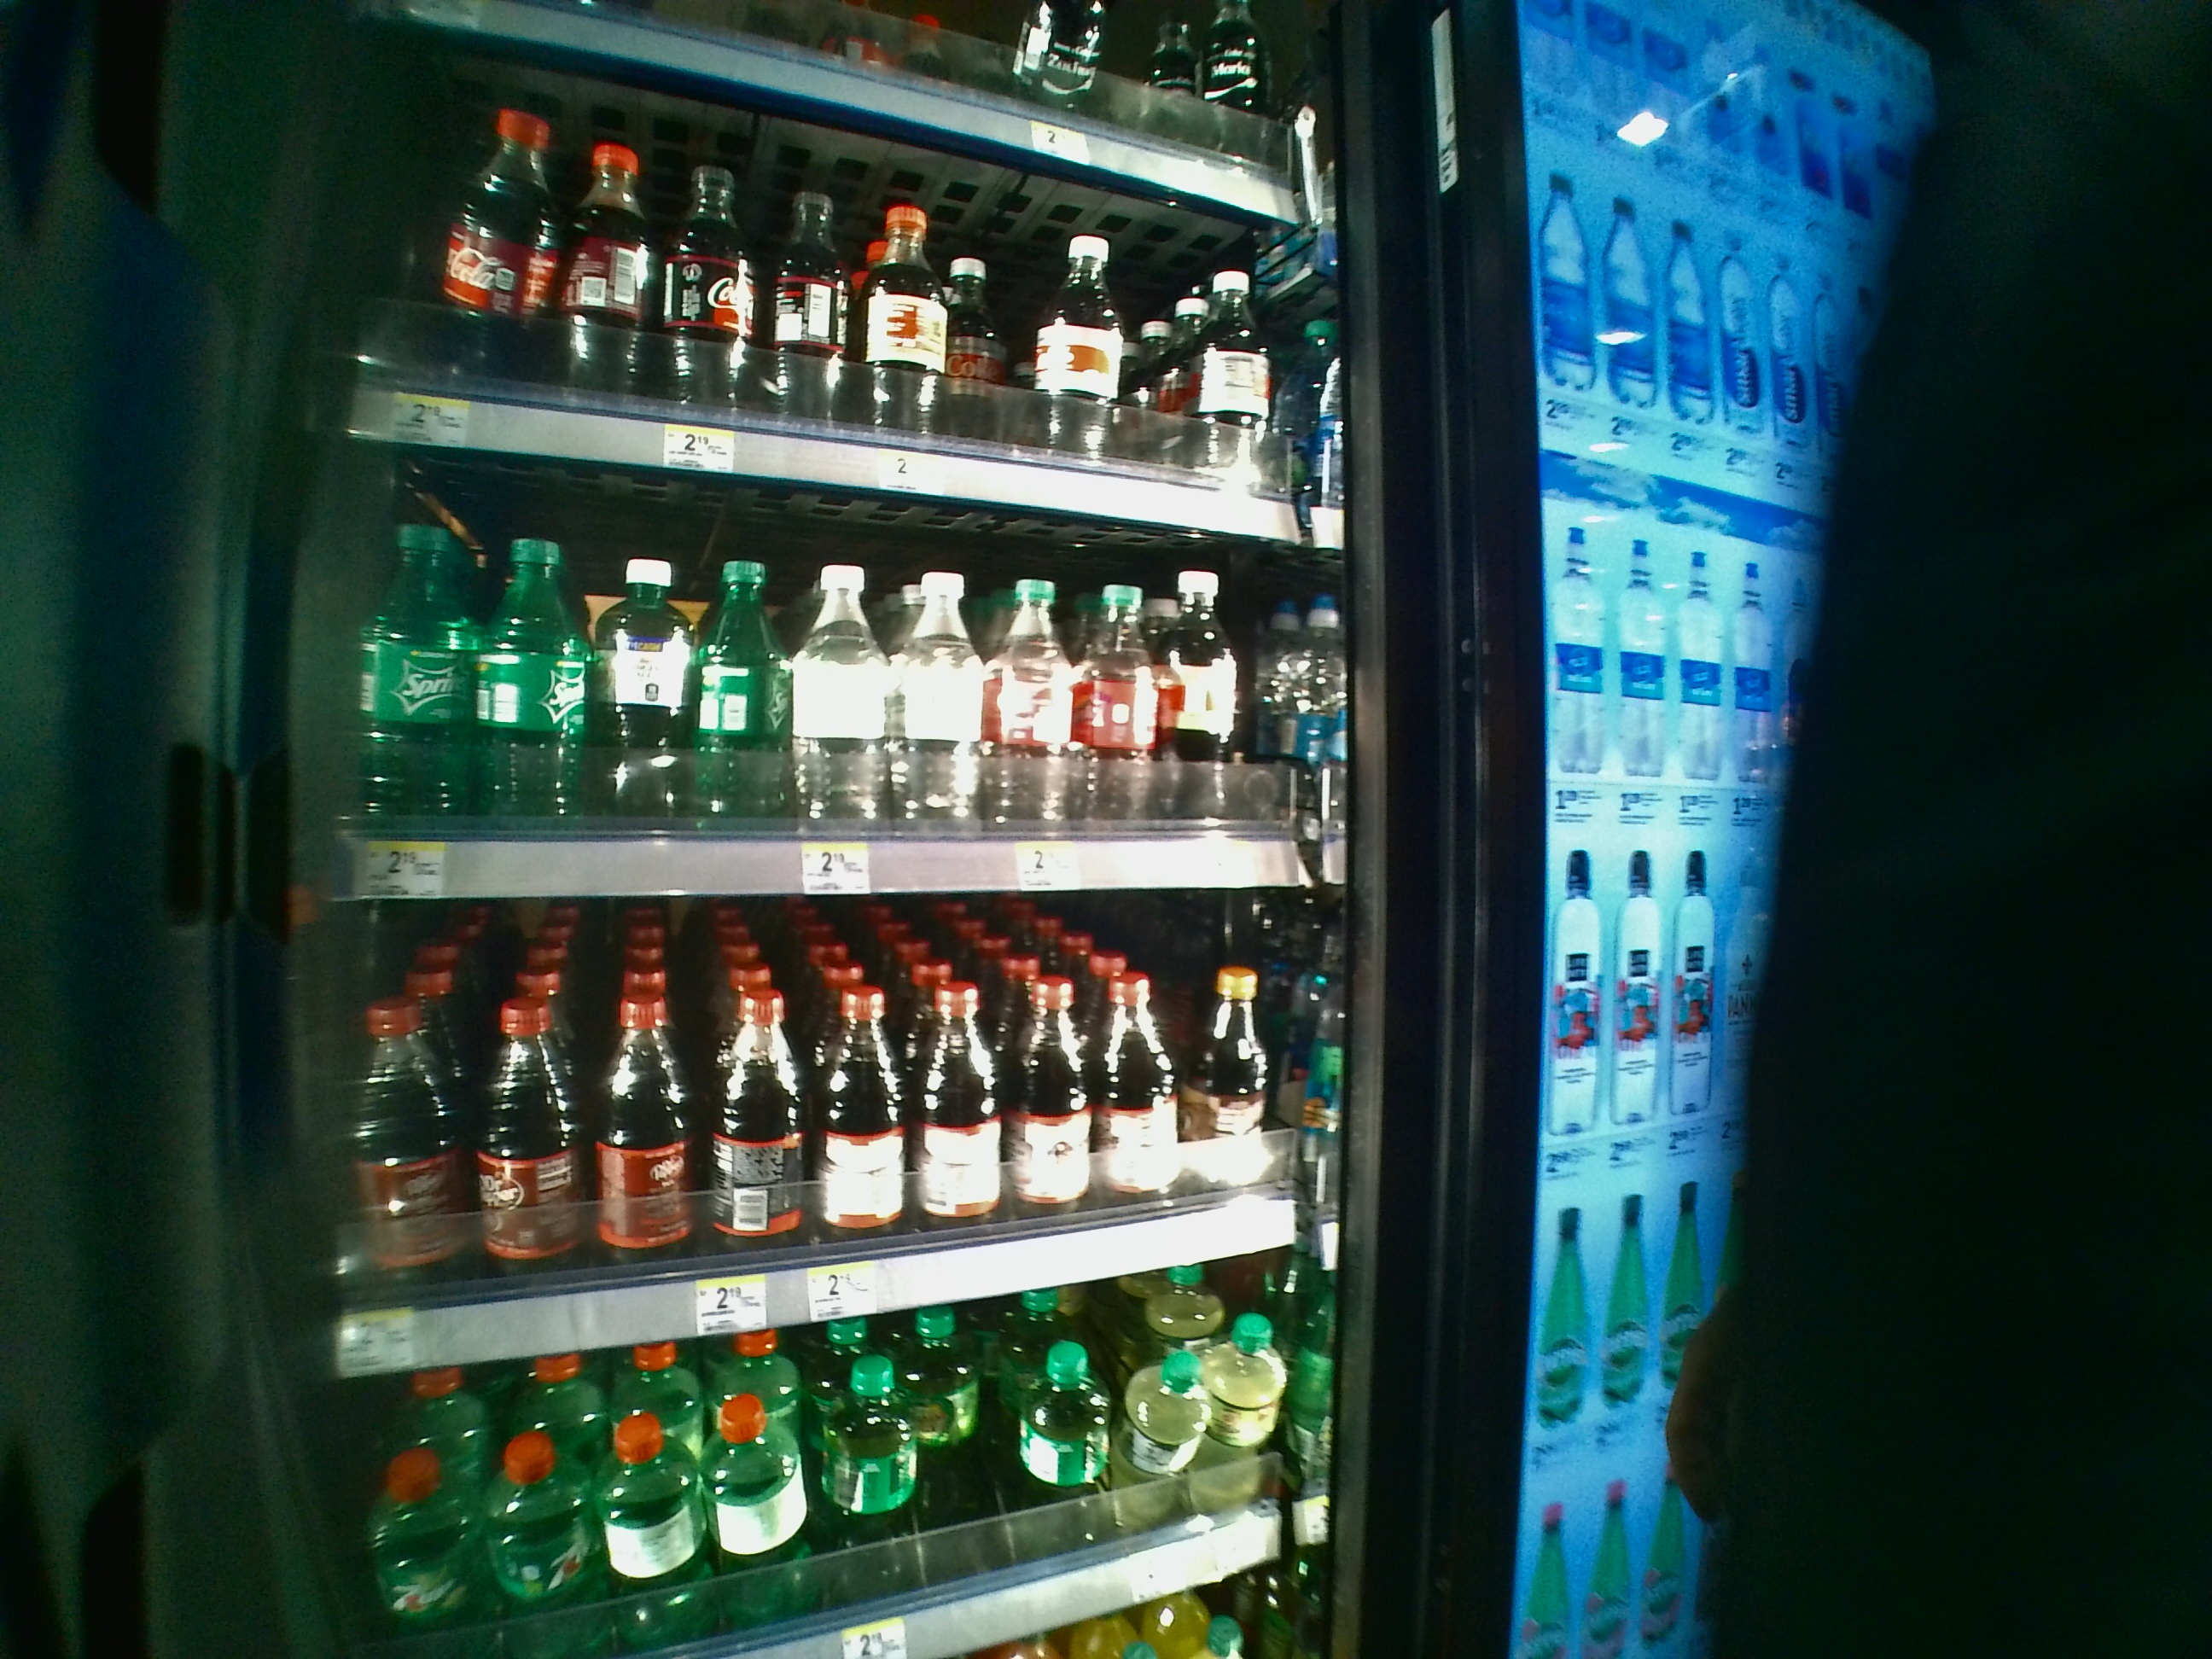shelf: (341, 476, 1313, 885), (336, 892, 1287, 1310)
